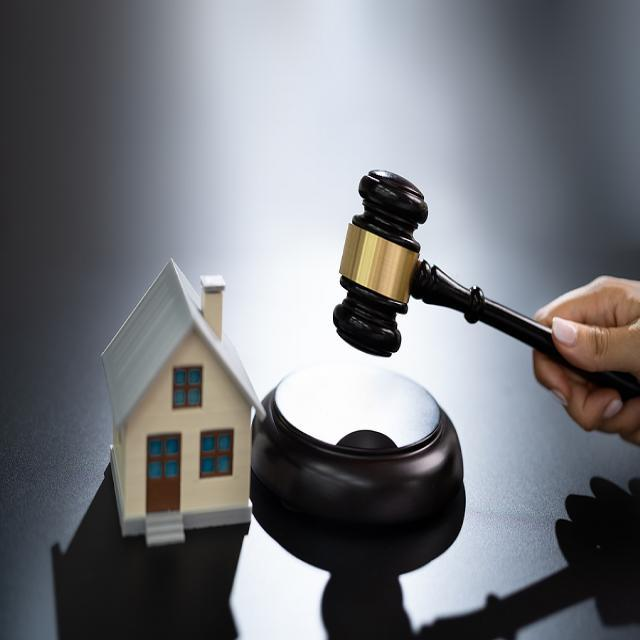hammer: (301, 128, 615, 441)
